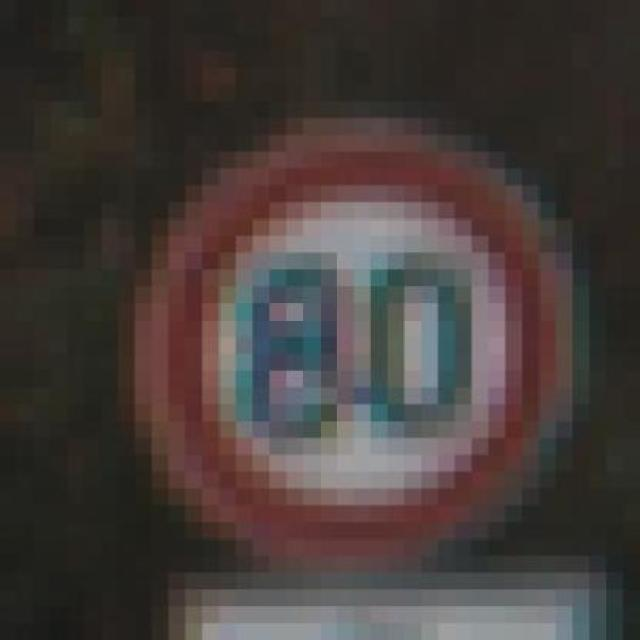forb_speed_over_80: (152, 144, 556, 567)
